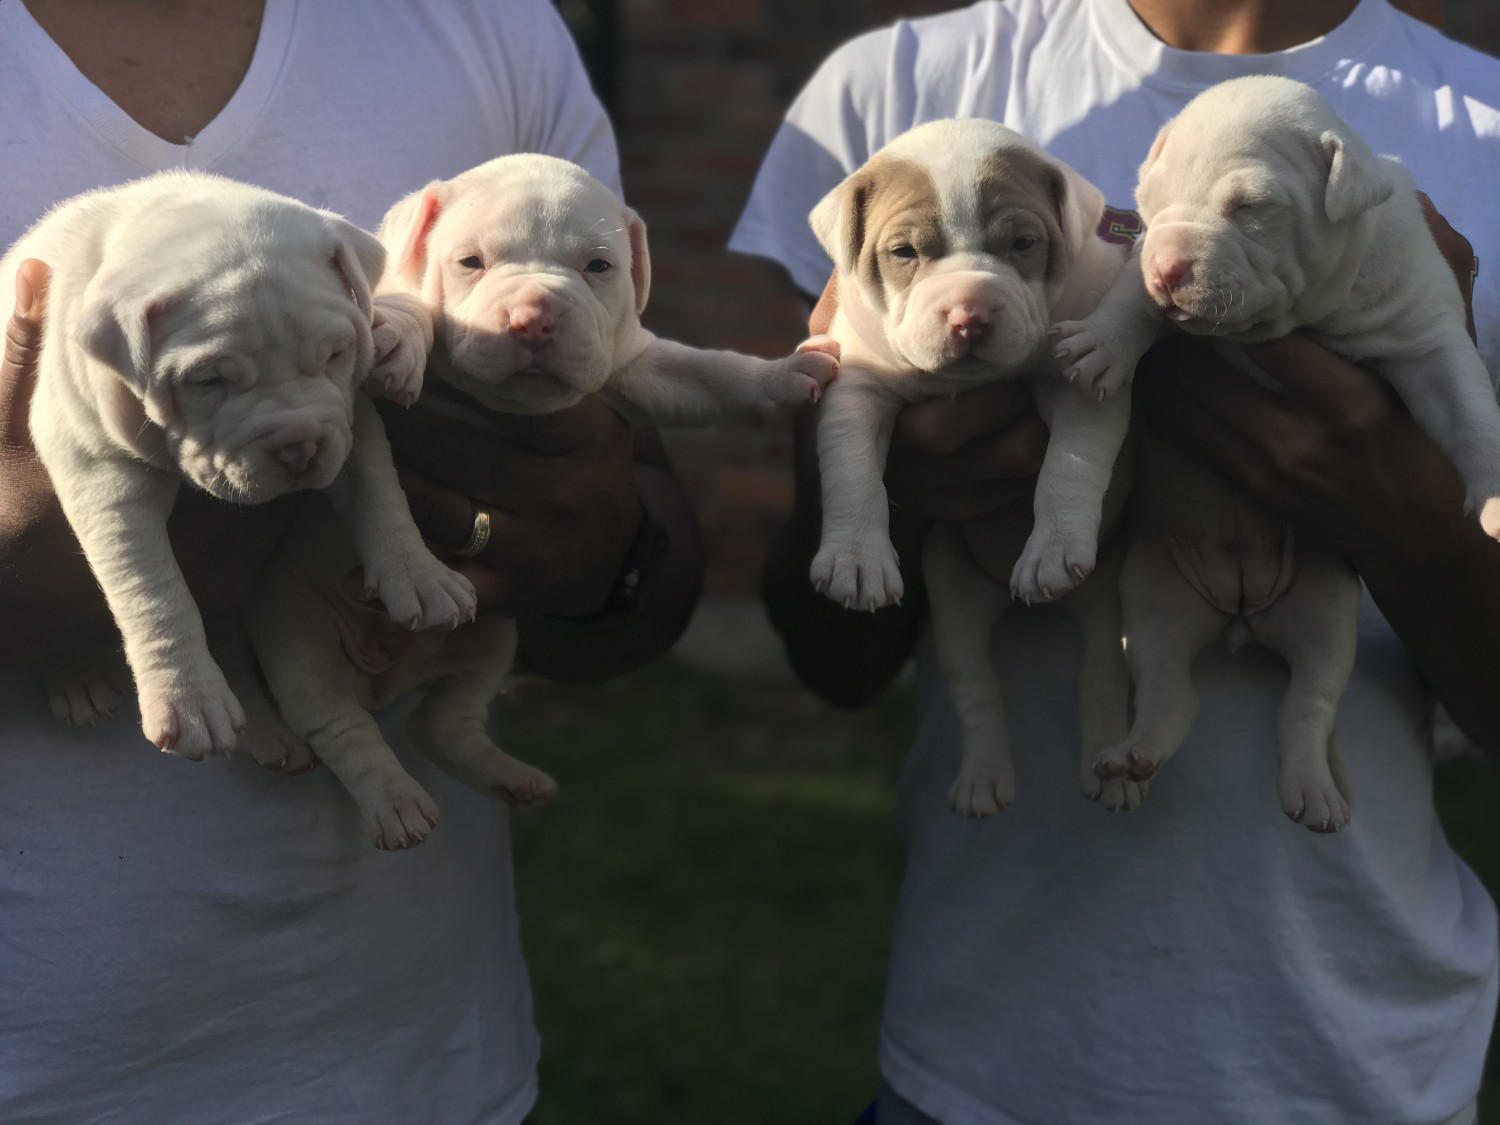am_pit_bull_terrier: (244, 150, 843, 852), (1052, 77, 1499, 835), (0, 164, 472, 776), (808, 117, 1160, 822)
